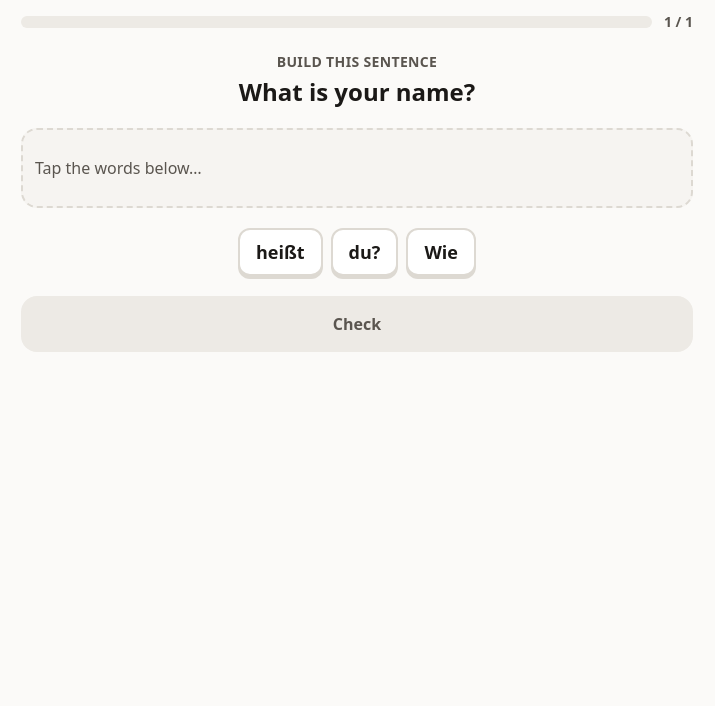
Sentence grammar hints › shows the item lesson only after a wrong order
The image size is (715, 706).
Click the button "heißt" at (280, 252), box [238, 228, 323, 276]
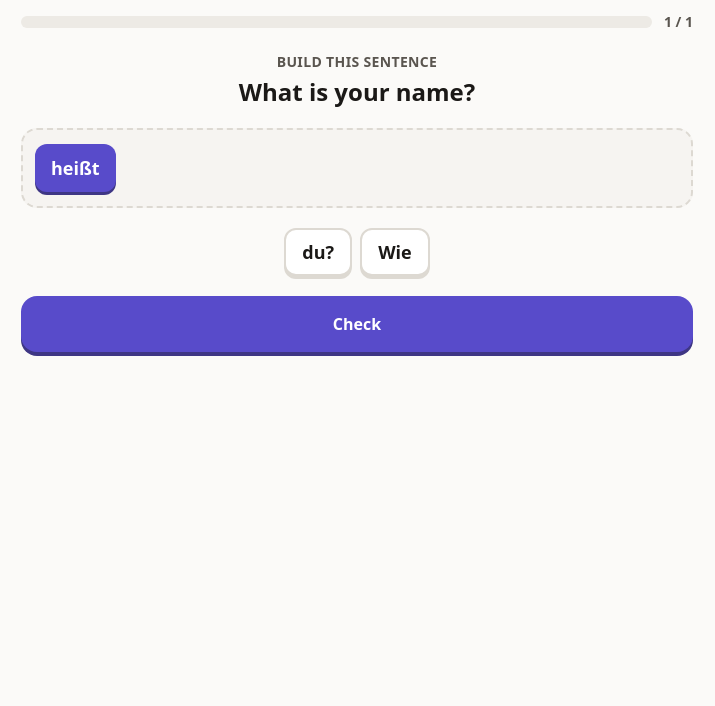
Click the button "Wie" at (395, 252), box [360, 228, 430, 276]
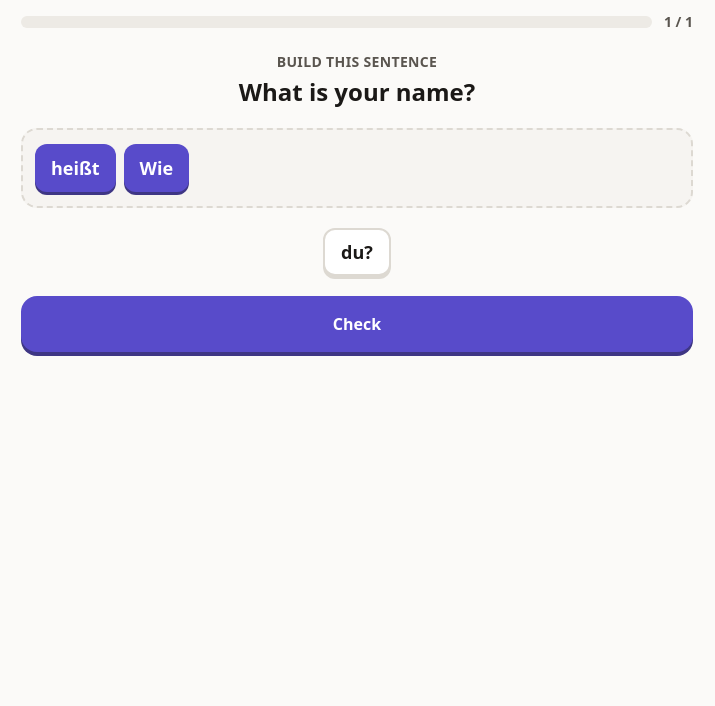
Click the button "du?" at (357, 252), box [323, 228, 391, 276]
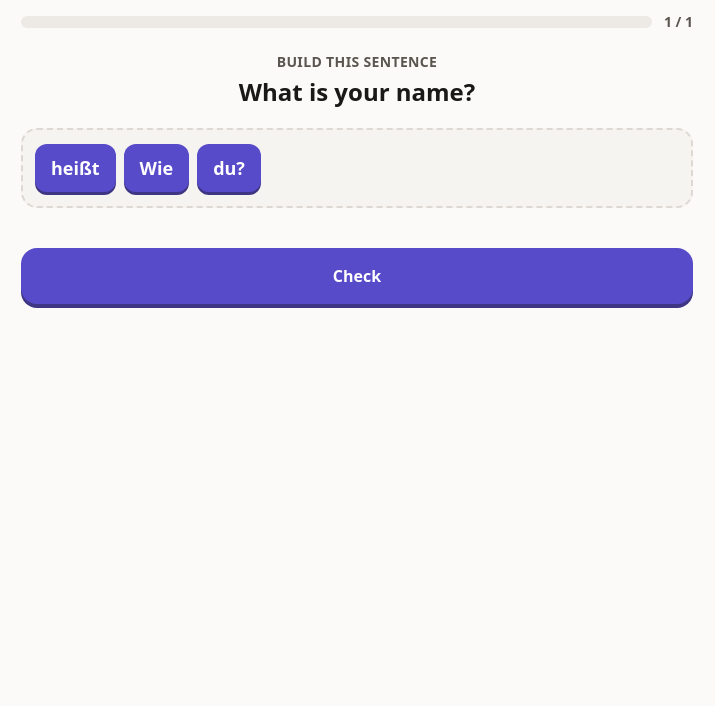
Click the button "Check" at (357, 276), box [21, 248, 693, 304]
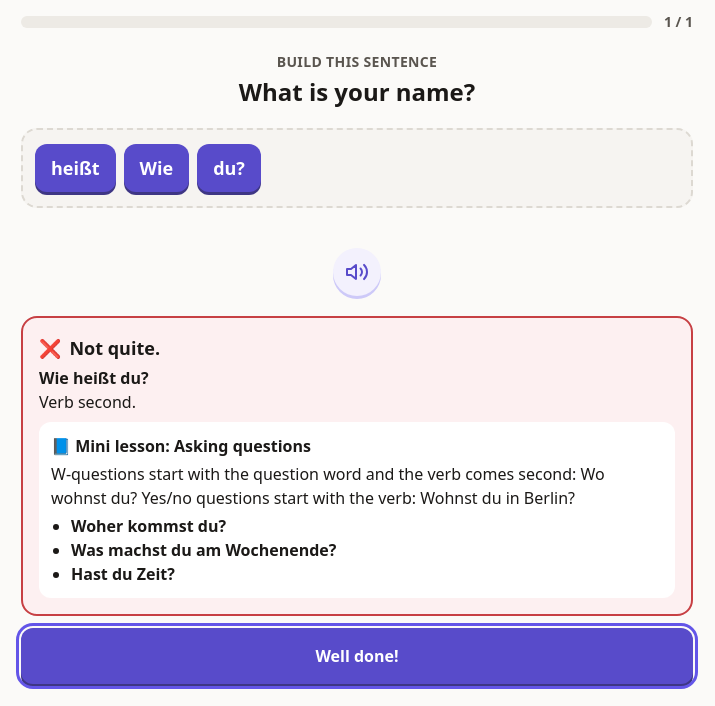
Expected: the element with test id "mini-lesson" shows "Asking questions", [174, 435, 311, 457]
